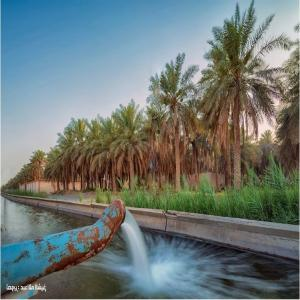palm tree: (197, 0, 292, 191), (157, 52, 199, 192), (108, 99, 146, 190), (30, 149, 46, 192)
